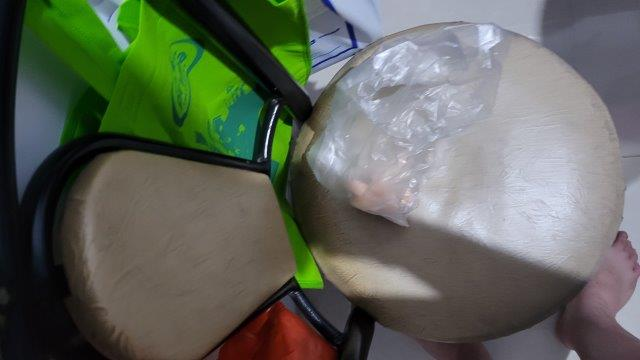plastik: (313, 25, 512, 225)
